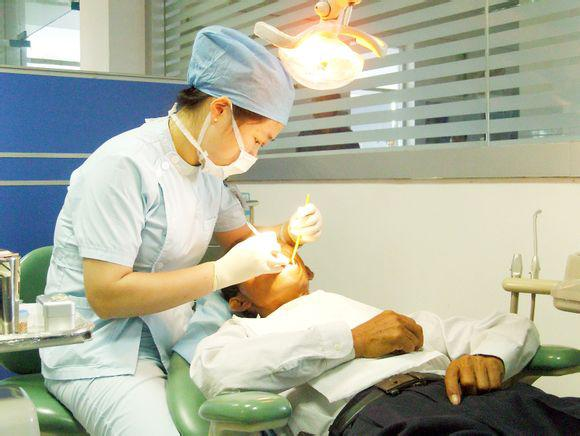OK: (191, 107, 278, 186)
